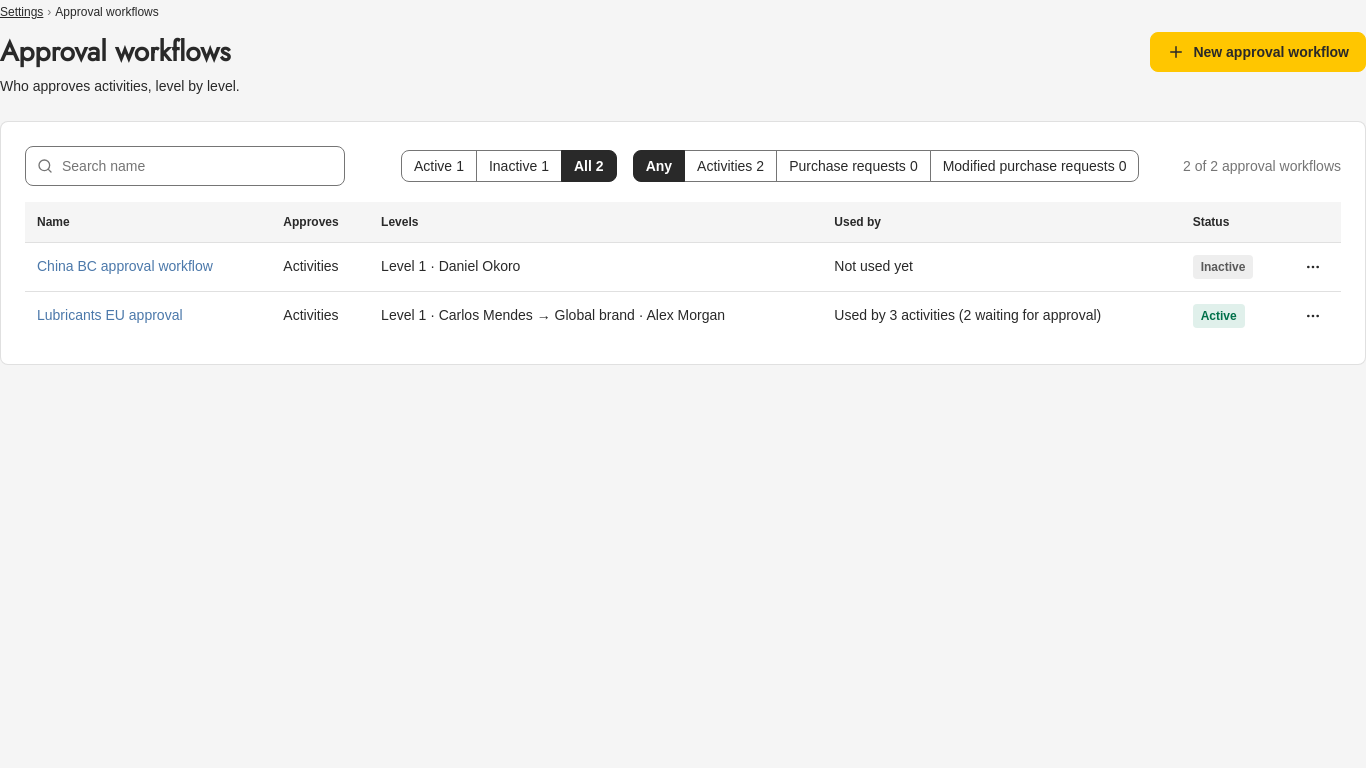
Test: ApprovalWorkflowsPage set inactive, reactivate and delete (feature 008, US4) › shows the used dialog when the API answers in_use (FR-008)
This screenshot has width=1366, height=768.
What coordinates should you click on to do the following:
click the button "All 2"
I would click on:
 (589, 166)
Its box is [561,150,617,182].
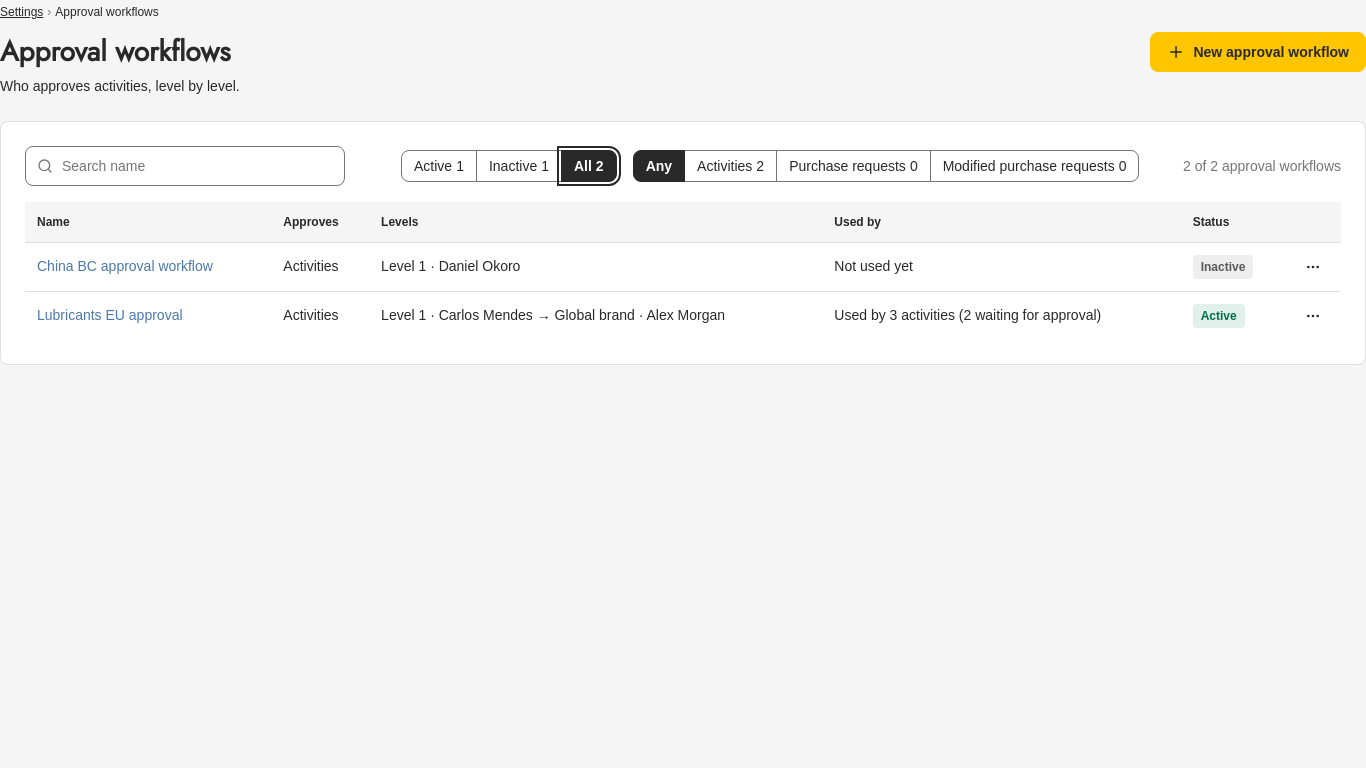
expect the row "China BC" is shown: met, box [25,242,1341,291]
What coordinates should you click on to do the following:
click the button named "Actions for China BC approval workflow"
I would click on:
 (1313, 266)
Its box is [1297,250,1329,282].
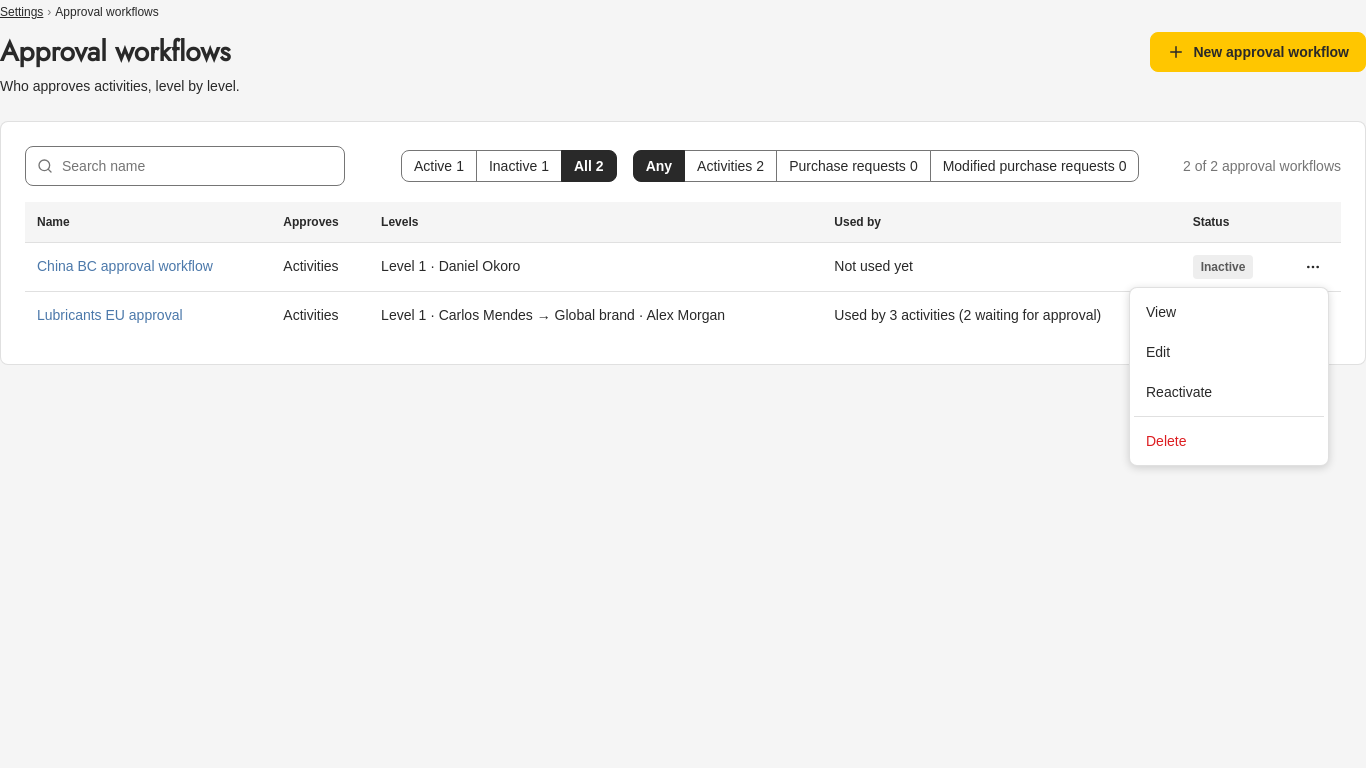
What coordinates should you click on to do the following:
click the menu item "Delete"
I would click on:
 (1166, 441)
Its box is [1146,433,1186,449].
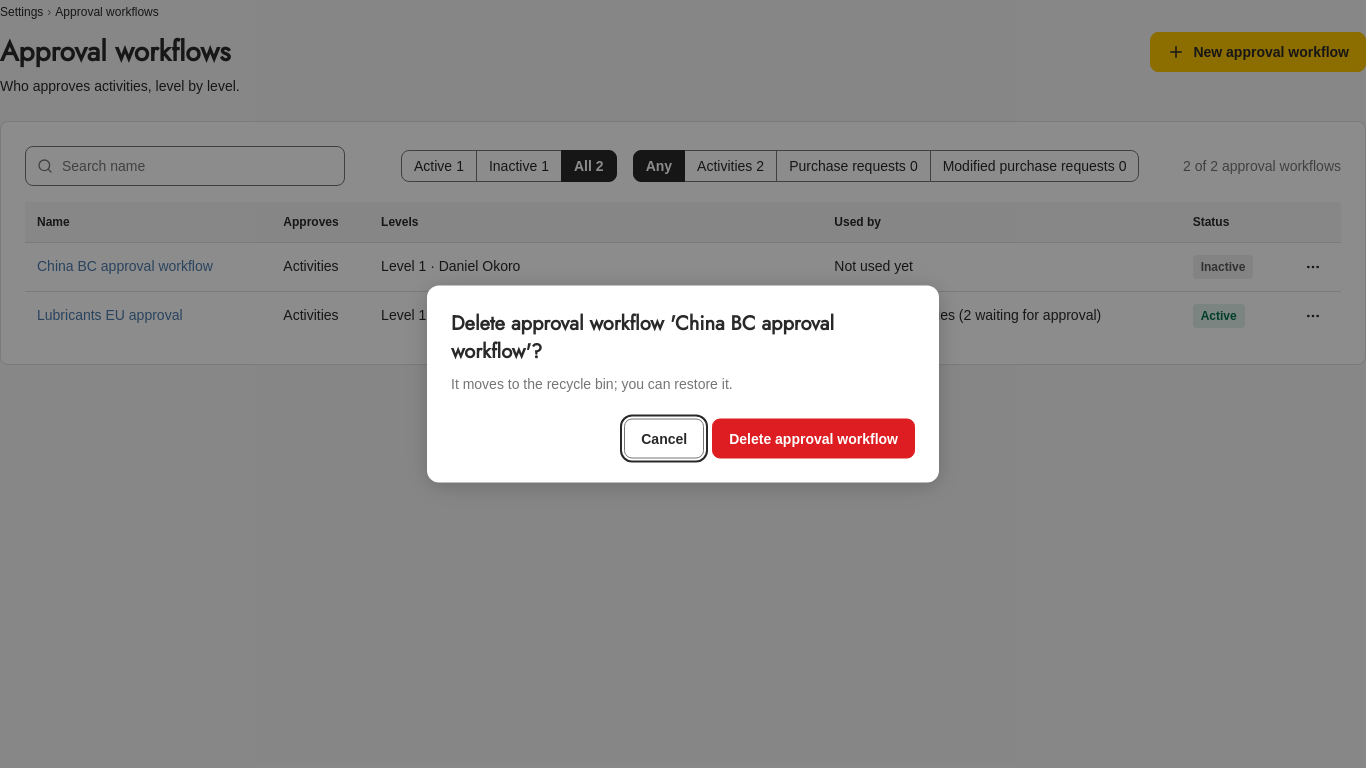
What coordinates should you click on to do the following:
click the button "Delete approval workflow"
I would click on:
 (814, 438)
Its box is [712,418,915,458].
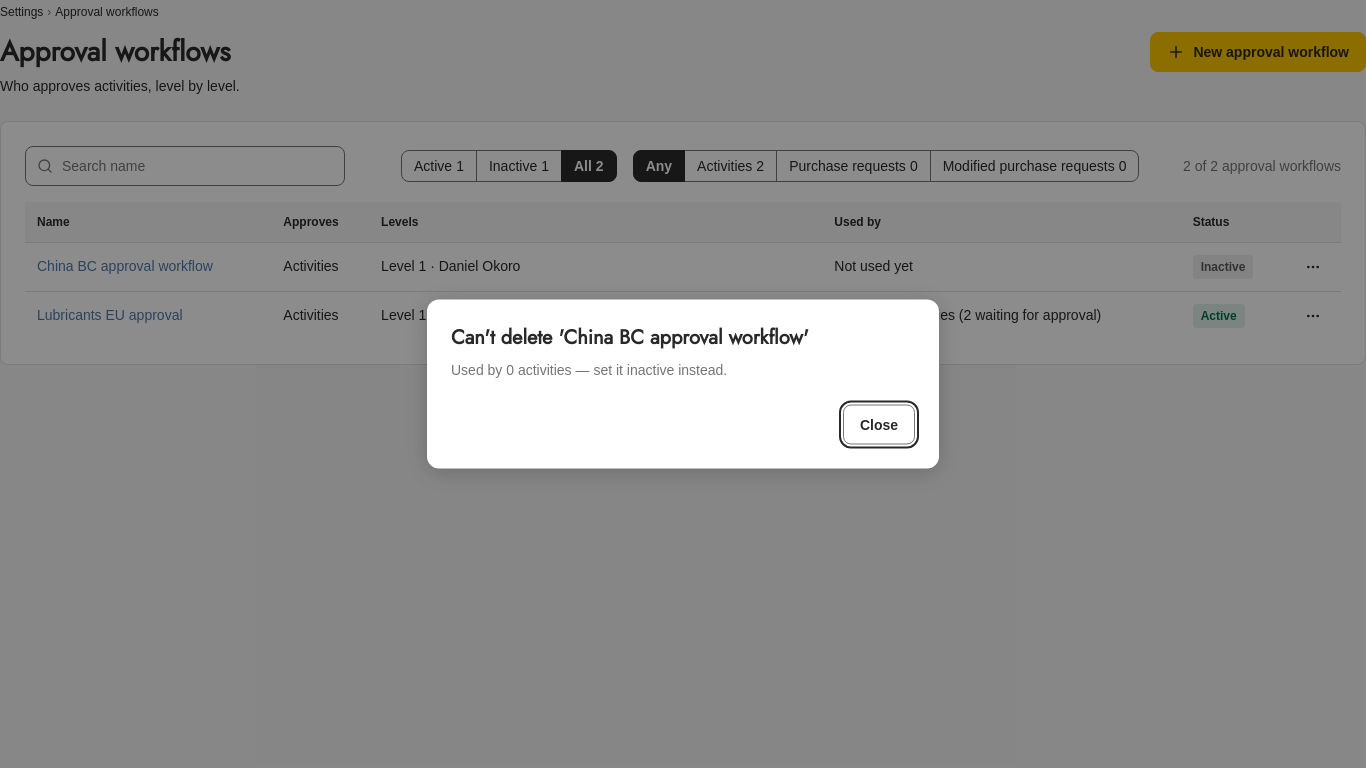
expect the buttons read "Close", in this order: met, box [843,404,915,444]
